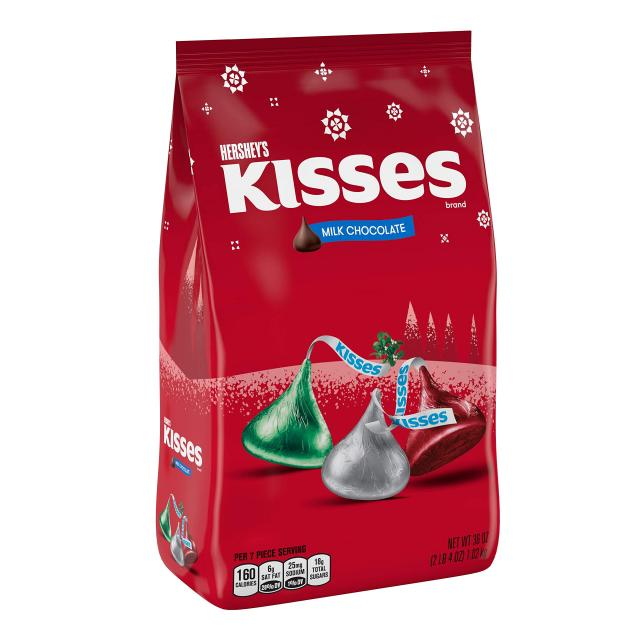kisses: (321, 382, 414, 508)
